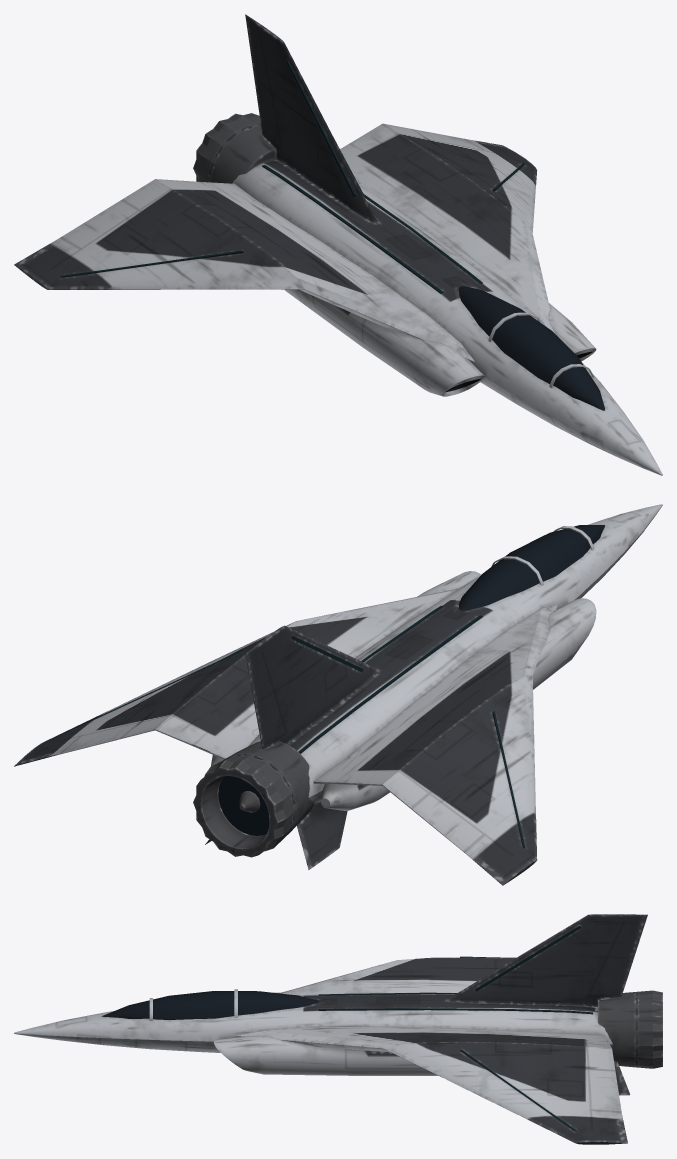
The model's file is Player.fbx.
3 renders of one model, top to bottom at view 1: azimuth 30°, elevation 25°; view 2: azimuth 150°, elevation 25°; view 3: azimuth 270°, elevation 25°, orthographic. The views are drawn at different scales.
Visible parts, largest first — view 1: Player_Body; view 2: Player_Body; view 3: Player_Body.
Part boxes in pixels (x1,y1,x2,y2): Player_Body: (14, 14, 662, 475); Player_Body: (14, 504, 662, 885); Player_Body: (14, 914, 662, 1144).
Size of the model in its own units: 863 by 357 by 1300.
1 material, 1 textured.
